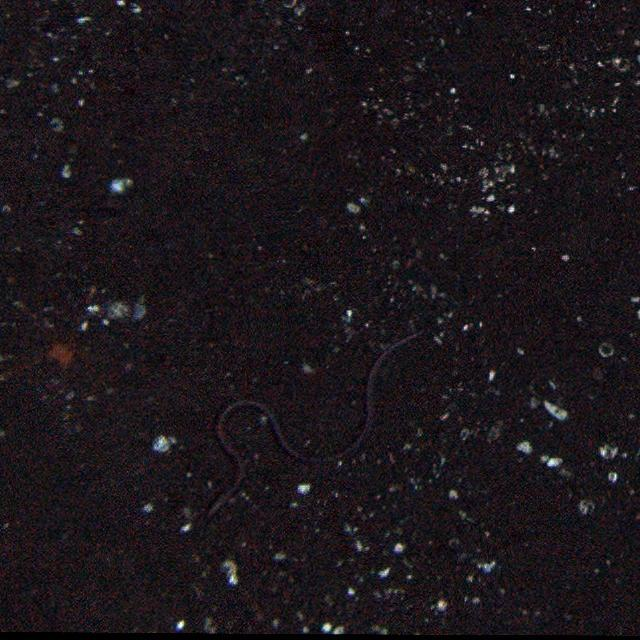eel: (198, 335, 436, 528)
